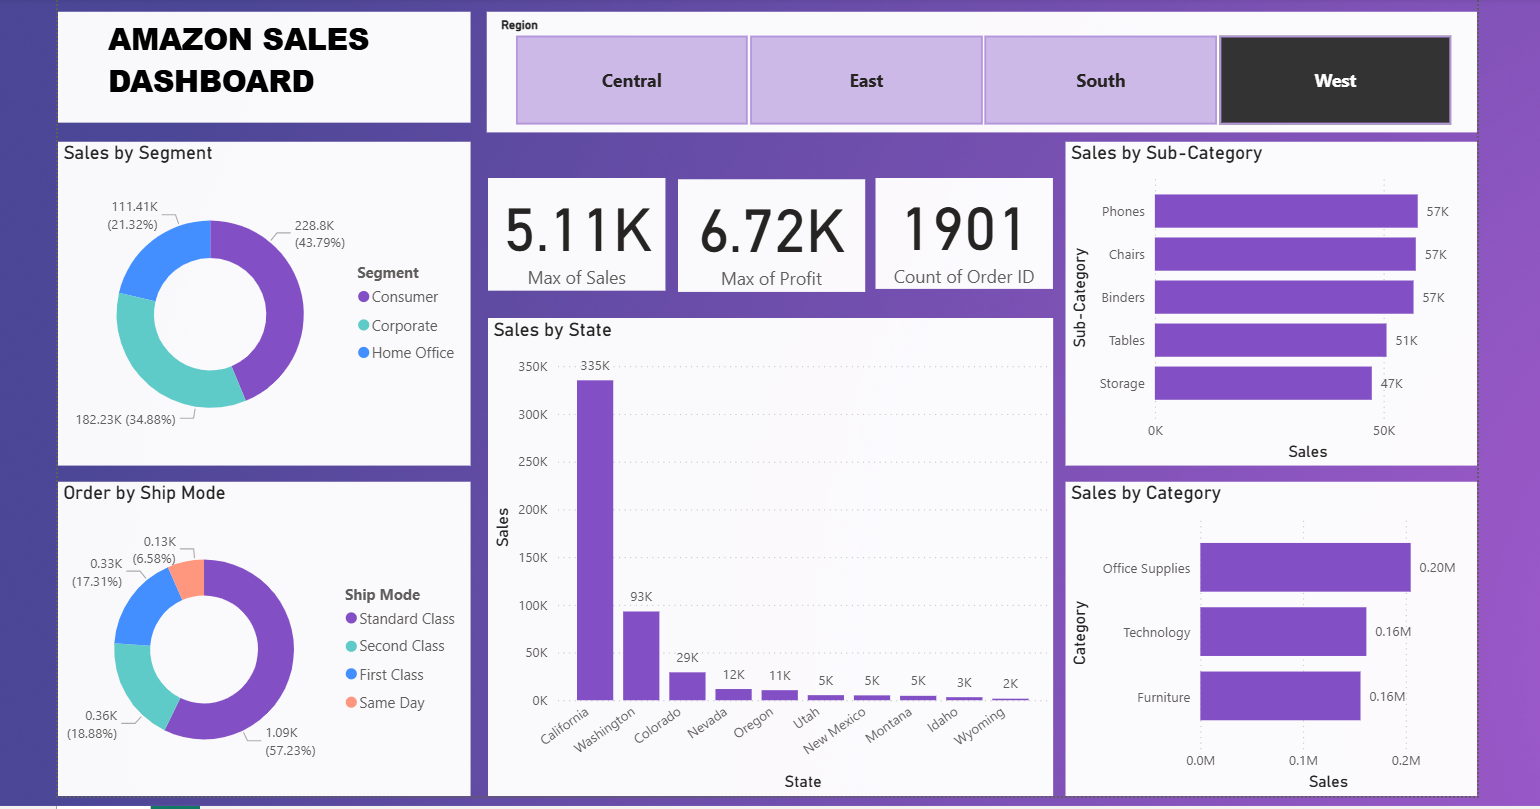

The page's visual inventory and layout, read from the dashboard file:
{"tool":"powerbi","page":{"name":"Page 1","canvas":[1280,720],"ordinal":0},"visuals":[{"type":"clusteredBarChart","fields":{"Category":["Amazon Store Sales Data xlsx -.Category"],"Y":["Sum(Amazon Store Sales Data xlsx -.Sales)"]},"box":[908.6,436.6,371.7,283.7],"z":0},{"type":"clusteredBarChart","fields":{"Category":["Amazon Store Sales Data xlsx -.Sub-Category"],"Y":["Sum(Amazon Store Sales Data xlsx -.Sales)"]},"box":[908.6,129.6,371.7,292.3],"z":1000},{"type":"donutChart","fields":{"Category":["Amazon Store Sales Data xlsx -.Segment"],"Y":["Sum(Amazon Store Sales Data xlsx -.Sales)"]},"box":[0,129.6,371.7,292.3],"z":2000},{"type":"donutChart","fields":{"Category":["Amazon Store Sales Data xlsx -.Ship Mode"],"Y":["CountNonNull(Amazon Store Sales Data xlsx -.Order ID)"]},"box":[0,436.6,371.7,283.7],"z":3000},{"type":"columnChart","fields":{"Y":["Sum(Amazon Store Sales Data xlsx -.Sales)"],"Category":["Amazon Store Sales Data xlsx -.State"]},"box":[387.6,288.6,509.9,431.7],"z":4000},{"type":"textbox","box":[0,12.2,371.7,100.3],"z":5000},{"type":"card","fields":{"Values":["Max(Amazon Store Sales Data xlsx -.Sales)"]},"box":[387.6,162.6,160.2,101.5],"z":6000},{"type":"card","fields":{"Values":["Max(Amazon Store Sales Data xlsx -.Profit)"]},"box":[558.8,163.9,168.8,101.5],"z":7000},{"type":"card","fields":{"Values":["CountNonNull(Amazon Store Sales Data xlsx -.Order ID)"]},"box":[737.4,162.6,160.2,100.3],"z":8000},{"type":"slicer","fields":{"Values":["Amazon Store Sales Data xlsx -.Region"]},"box":[386.4,12.2,893.9,108.8],"z":9000}]}

Visuals, with their boxes in screenshot pixels (x1, y1, x2, y2):
clusteredBarChart - Amazon Store Sales Data xlsx -.Category x Sum(Amazon Store Sales Data xlsx -.Sales): bbox=(1060, 480, 1473, 795)
clusteredBarChart - Amazon Store Sales Data xlsx -.Sub-Category x Sum(Amazon Store Sales Data xlsx -.Sales): bbox=(1060, 140, 1473, 464)
donutChart - Amazon Store Sales Data xlsx -.Segment x Sum(Amazon Store Sales Data xlsx -.Sales): bbox=(52, 140, 465, 464)
donutChart - Amazon Store Sales Data xlsx -.Ship Mode x CountNonNull(Amazon Store Sales Data xlsx -.Order ID): bbox=(52, 480, 465, 795)
columnChart - Sum(Amazon Store Sales Data xlsx -.Sales) x Amazon Store Sales Data xlsx -.State: bbox=(482, 316, 1048, 795)
textbox: bbox=(52, 10, 465, 121)
card - Max(Amazon Store Sales Data xlsx -.Sales): bbox=(482, 176, 660, 289)
card - Max(Amazon Store Sales Data xlsx -.Profit): bbox=(672, 178, 859, 290)
card - CountNonNull(Amazon Store Sales Data xlsx -.Order ID): bbox=(870, 176, 1048, 288)
slicer - Amazon Store Sales Data xlsx -.Region: bbox=(481, 10, 1473, 130)
